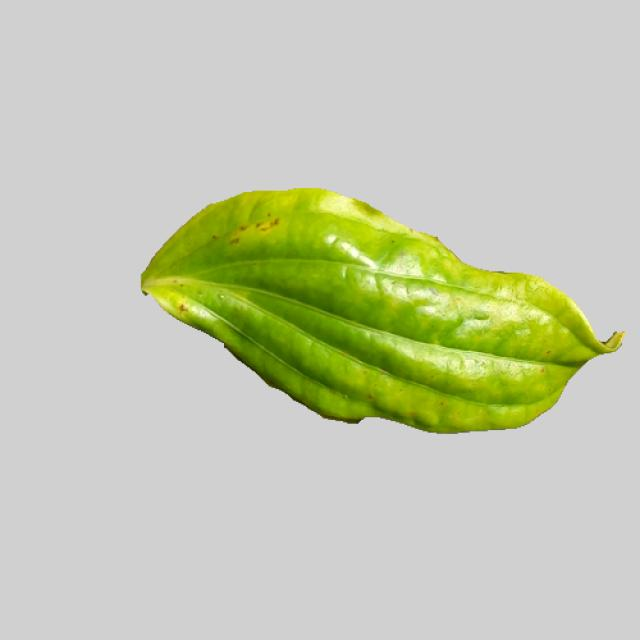yellow-mottle-virus: (134, 186, 624, 435)
